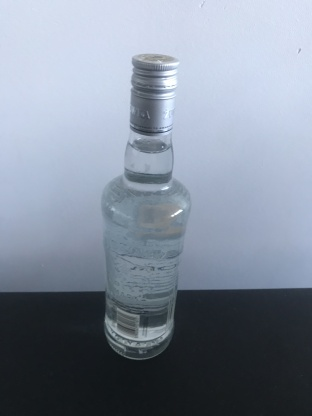nakretka: (128, 49, 182, 138)
